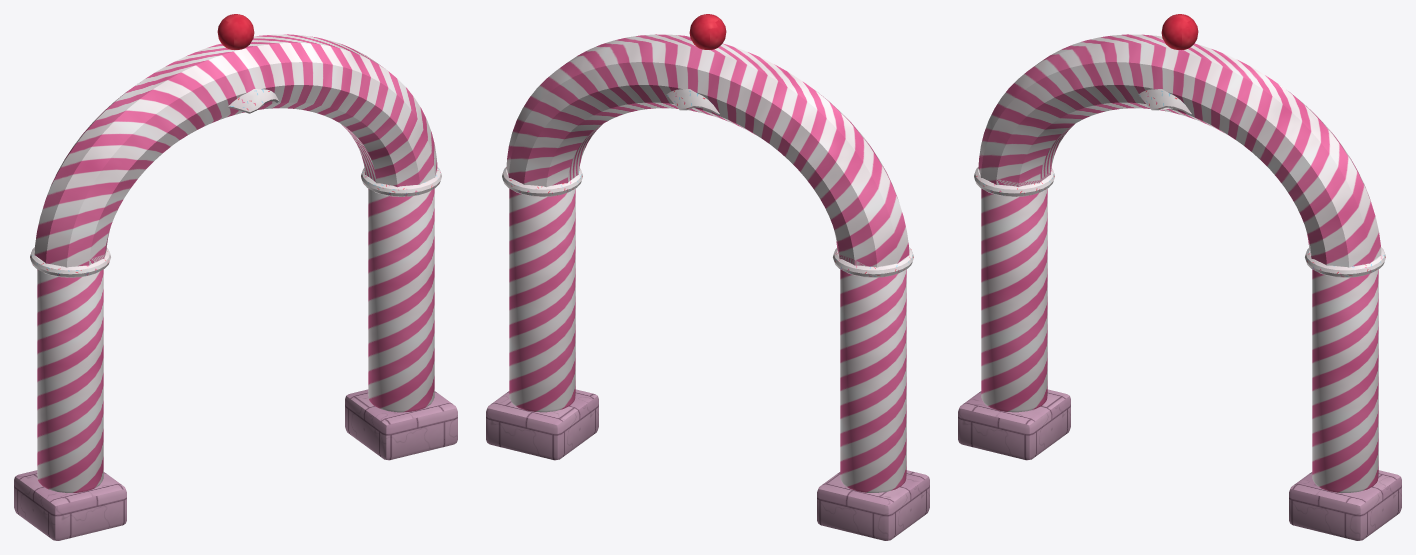
The model's file is GIN_CandyArch.fbx.
3 views of the same model, side by side, from view 1: azimuth 30°, elevation 25°; view 2: azimuth 150°, elevation 25°; view 3: azimuth 330°, elevation 25° (orthographic).
Parts seen in each view (by area): view 1: GIN_CandyArch; view 2: GIN_CandyArch; view 3: GIN_CandyArch.
Boxes of the visible parts, left/top/right/bottom form: GIN_CandyArch: left=14, top=14, right=457, bottom=540; GIN_CandyArch: left=486, top=14, right=929, bottom=540; GIN_CandyArch: left=958, top=14, right=1401, bottom=540.
Size of the model in its own units: 3.8 by 4.15 by 0.72.
